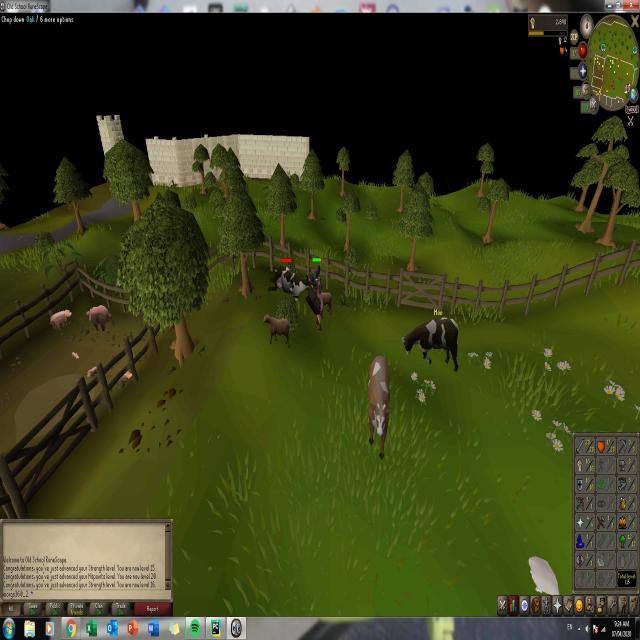cow: (402, 313, 462, 374), (363, 354, 393, 464), (272, 258, 310, 306)
